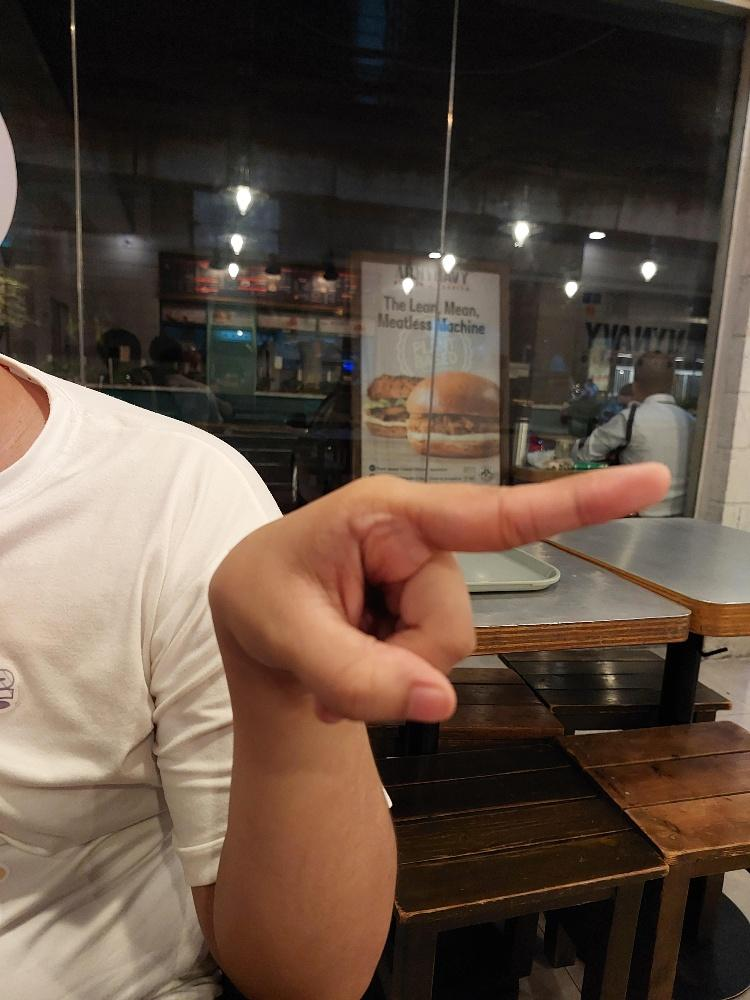z: (205, 457, 673, 728)
